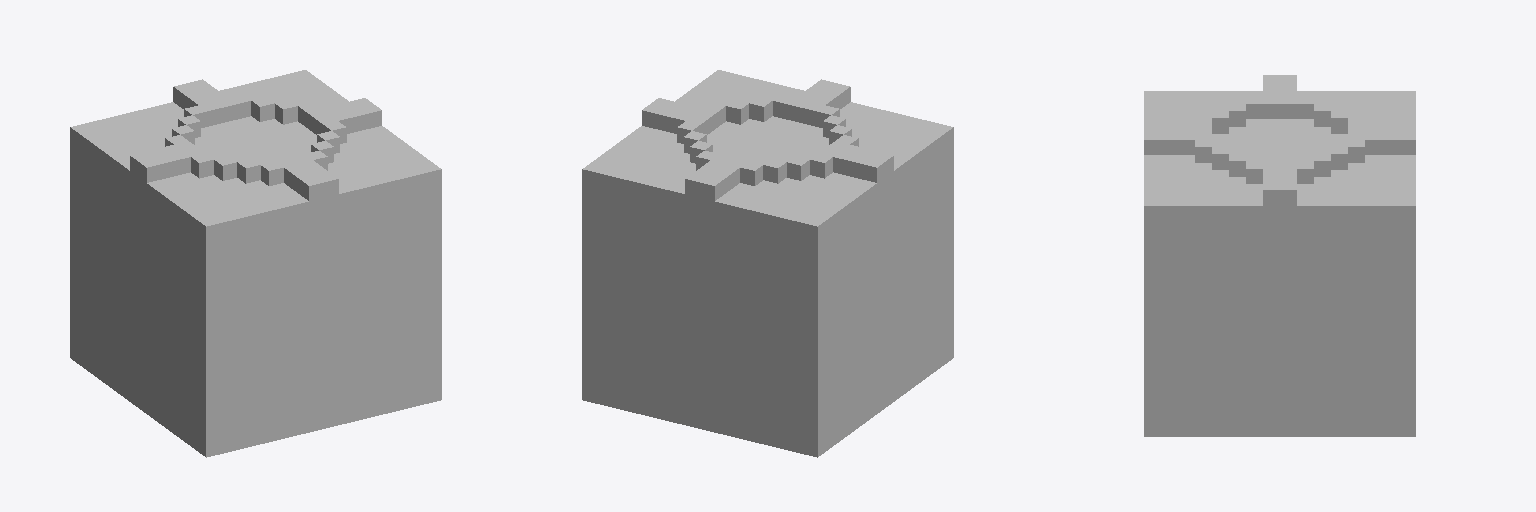
The model's file is Floor Emmitter.obj.
The picture shows the model from 3 angles: view 1: azimuth 30°, elevation 25°; view 2: azimuth 150°, elevation 25°; view 3: azimuth 270°, elevation 25°; orthographic projection.
Parts seen in each view (by area): view 1: object 1; view 2: object 1; view 3: object 1.
Part boxes in pixels (x1,y1,x2,y2): object 1: (70,70,441,457); object 1: (582,70,953,457); object 1: (1144,75,1415,436).
Size of the model in its own units: 1.6 by 1.6 by 1.6.